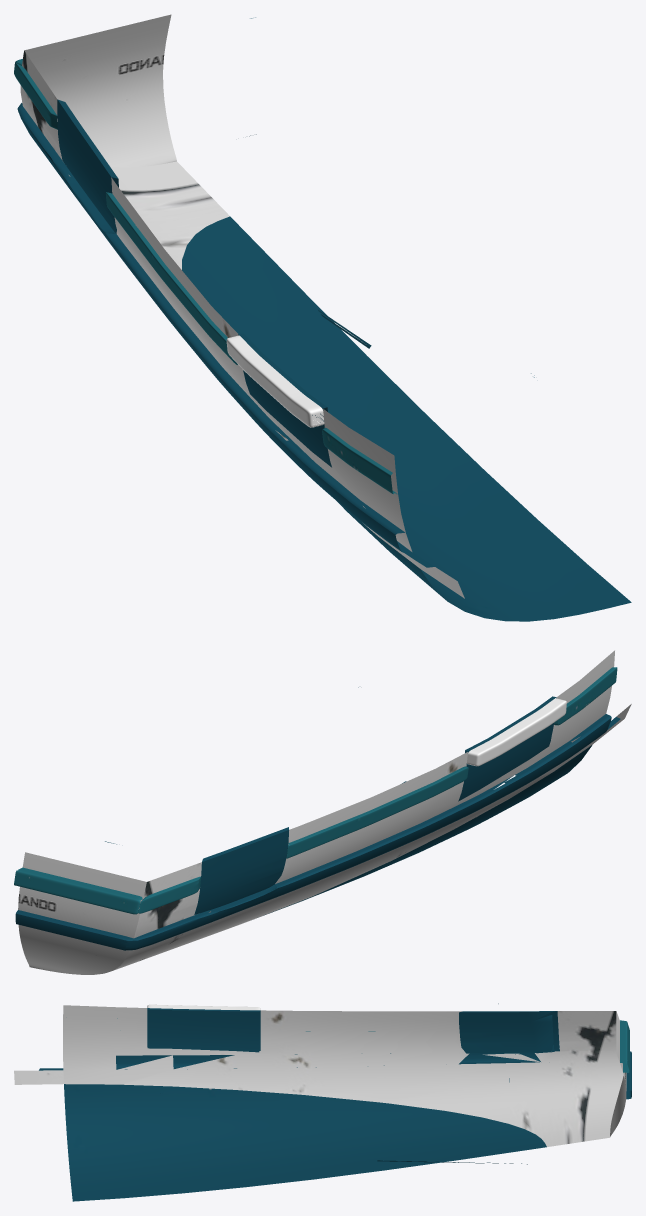
File: fishing_ship_back_stern.glb
3 renders of one model, top to bottom at view 1: azimuth 30°, elevation 25°; view 2: azimuth 150°, elevation 25°; view 3: azimuth 270°, elevation 25°, orthographic. The views are drawn at different scales.
Parts seen in each view (by area): view 1: Object_21.001, Object_52.001, Object_35.001, Object_18.001, Object_72.001, Object_38.001; view 2: Object_52.001, Object_35.001, Object_21.001, Object_18.001, Object_17.001, Object_38.001, Object_72.001; view 3: Object_52.001, Object_21.001, Object_38.001, Object_35.001, Object_52.002, Object_17.001, Object_72.001.
Part boxes in pixels (bbox=[...]): Object_21.001: bbox=[57, 17, 631, 621]; Object_52.001: bbox=[20, 14, 420, 568]; Object_35.001: bbox=[17, 103, 434, 567]; Object_18.001: bbox=[14, 63, 397, 494]; Object_72.001: bbox=[226, 335, 324, 427]; Object_38.001: bbox=[238, 333, 331, 467]; Object_52.001: bbox=[18, 650, 614, 974]; Object_35.001: bbox=[15, 714, 620, 950]; Object_21.001: bbox=[194, 687, 592, 915]; Object_18.001: bbox=[138, 667, 617, 913]; Object_17.001: bbox=[14, 867, 142, 914]; Object_38.001: bbox=[458, 696, 556, 801]; Object_72.001: bbox=[467, 698, 566, 766]; Object_52.001: bbox=[63, 1005, 626, 1146]; Object_21.001: bbox=[64, 1003, 559, 1201]; Object_38.001: bbox=[147, 1008, 260, 1052]; Object_35.001: bbox=[39, 1051, 631, 1099]; Object_52.002: bbox=[14, 1070, 63, 1084]; Object_17.001: bbox=[620, 1021, 629, 1072]; Object_72.001: bbox=[147, 1004, 260, 1010].
Bounding box in the file's own units: 4.69 × 5.57 × 16.27.
4 materials, 3 textured.
